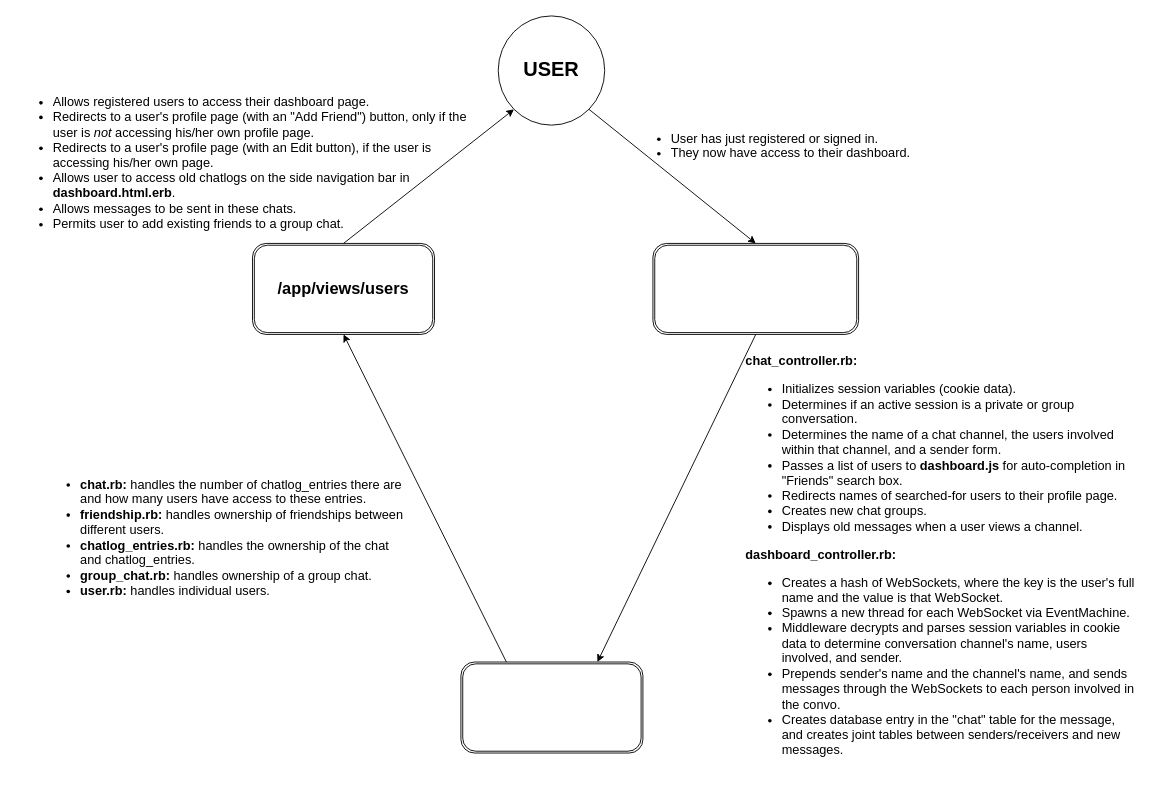
This 1150x805 diagram has some shape labels left out. The box of each missing label's shape, as (x1, y1, x2, y2) in pixels:
chat.rb, friendship.rb, chatlog_entry.rb, group_chat.rb, user.rb: (460, 661, 643, 753)
chat_controller.rb, dashboard_controller.rb: (652, 243, 859, 334)
